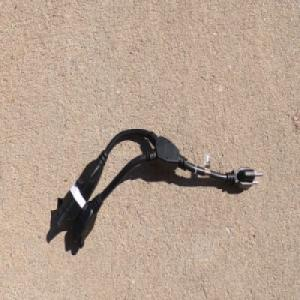Wire: (55, 126, 263, 252)
